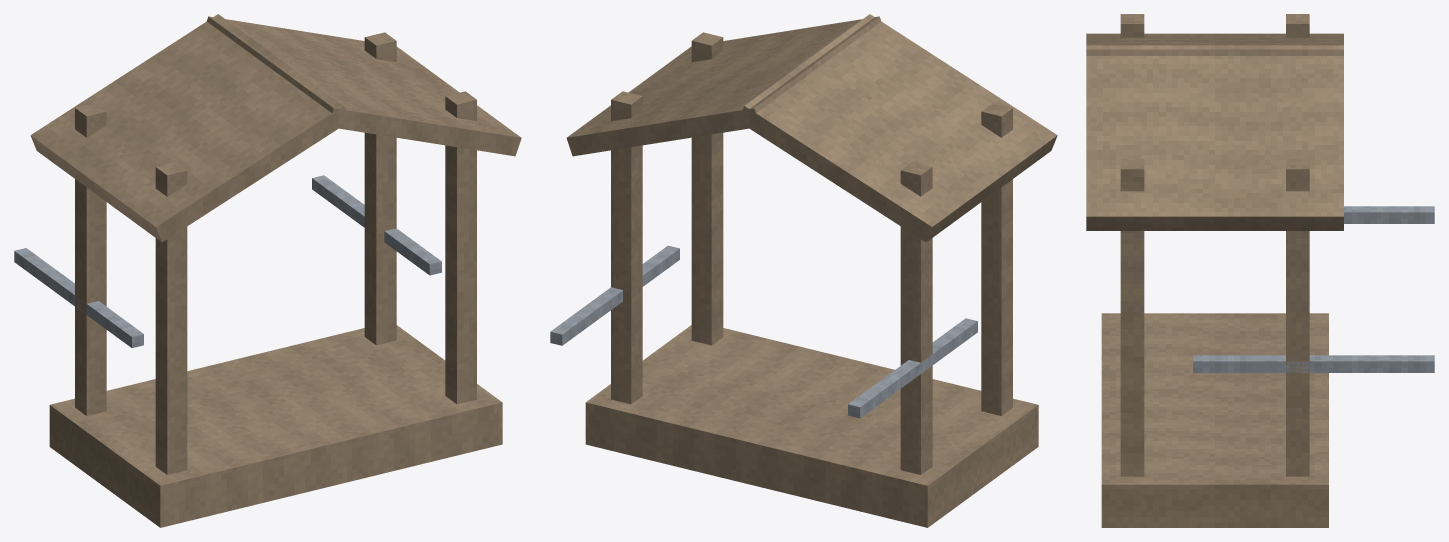
The model's file is level_blockout_lighthouse_keeper_porch.glb.
3 renders of one model, left to right at view 1: azimuth 30°, elevation 25°; view 2: azimuth 150°, elevation 25°; view 3: azimuth 270°, elevation 25°, orthographic. The views are drawn at different scales.
Visible parts, largest first — view 1: level_blockout_lighthouse_keeper_porch; view 2: level_blockout_lighthouse_keeper_porch; view 3: level_blockout_lighthouse_keeper_porch.
Boxes of the visible parts, x1=… form: level_blockout_lighthouse_keeper_porch: x1=14, y1=14, x2=521, y2=527; level_blockout_lighthouse_keeper_porch: x1=550, y1=14, x2=1057, y2=527; level_blockout_lighthouse_keeper_porch: x1=1086, y1=14, x2=1434, y2=527.
Size of the model in its own units: 2.73 by 2.74 by 2.19.
2 materials, 2 textured.
